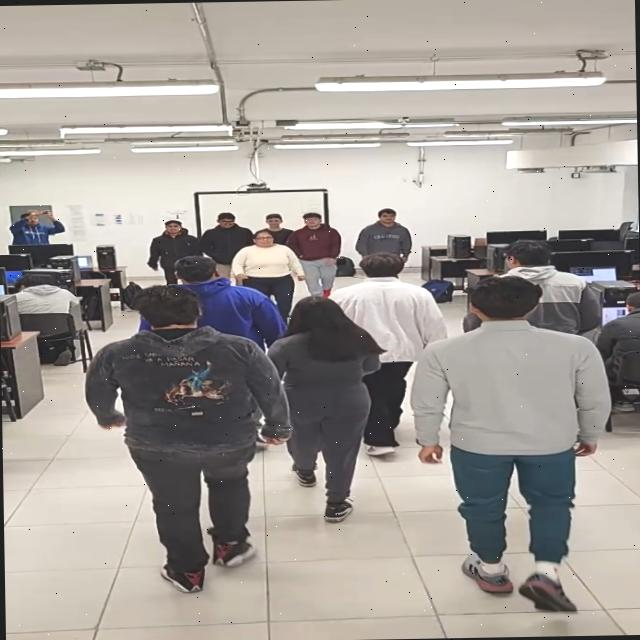Persona: (430, 274, 605, 618), (96, 282, 269, 600), (272, 296, 373, 526), (170, 254, 268, 331), (286, 208, 340, 298), (242, 228, 294, 300), (361, 204, 414, 254), (152, 215, 185, 287), (209, 208, 240, 282)
